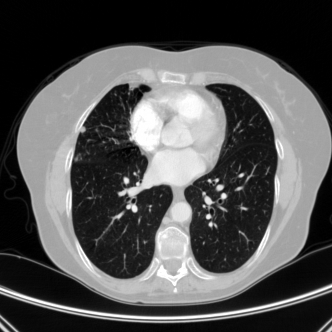nodule: (81, 127, 85, 131)
